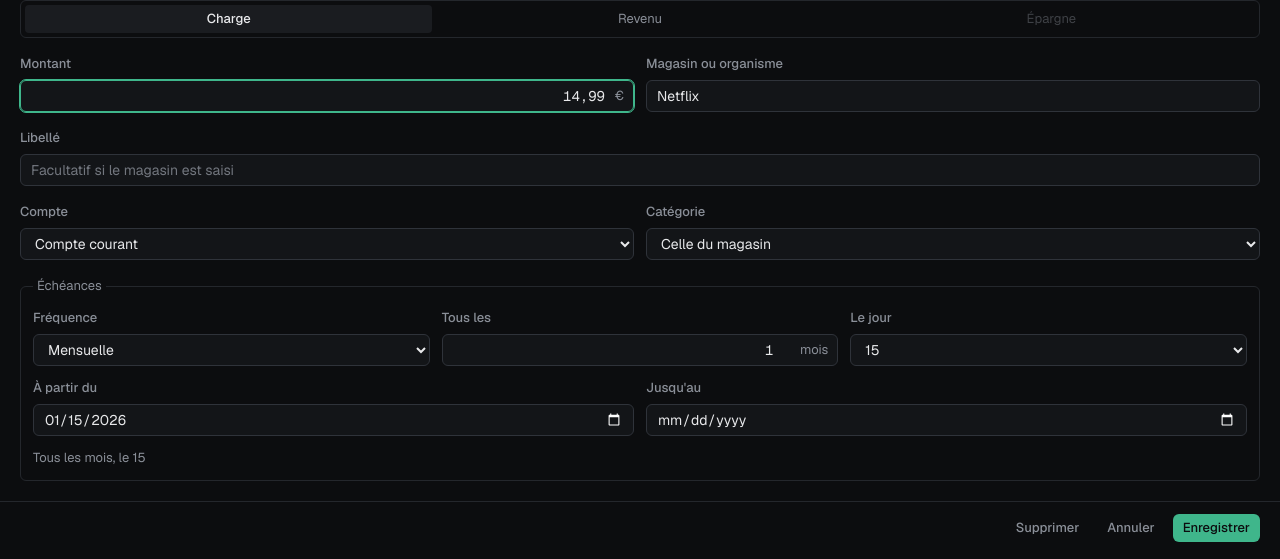
RuleForm › hides the day for a weekly rule and locks the saving kind when editing a charge
Expected: the field labelled "Montant" holds "14,99", [20,80,634,112]
Expected: the radio button labelled "Épargne" is disabled, [848,5,1255,33]
Select "Hebdomadaire" in the dropdown labelled "Fréquence" at (231, 350), box [33,334,430,366]
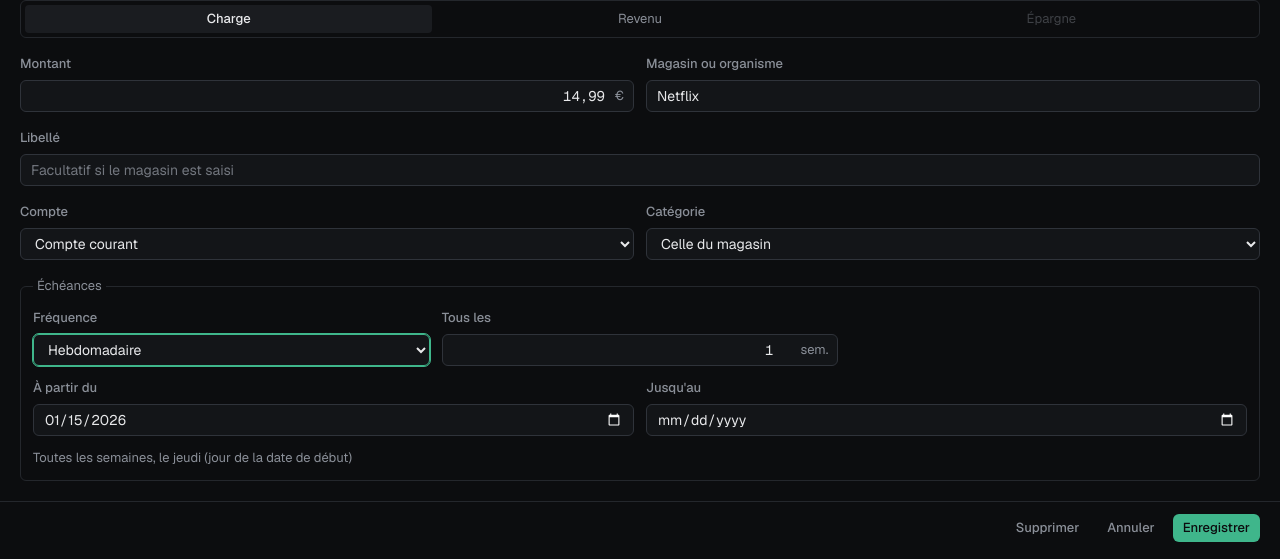
Now the label labelled "Le jour" is gone
Now the text "Toutes les semaines, le jeudi (jour de la date de début)" is shown, box [33,449,352,466]
